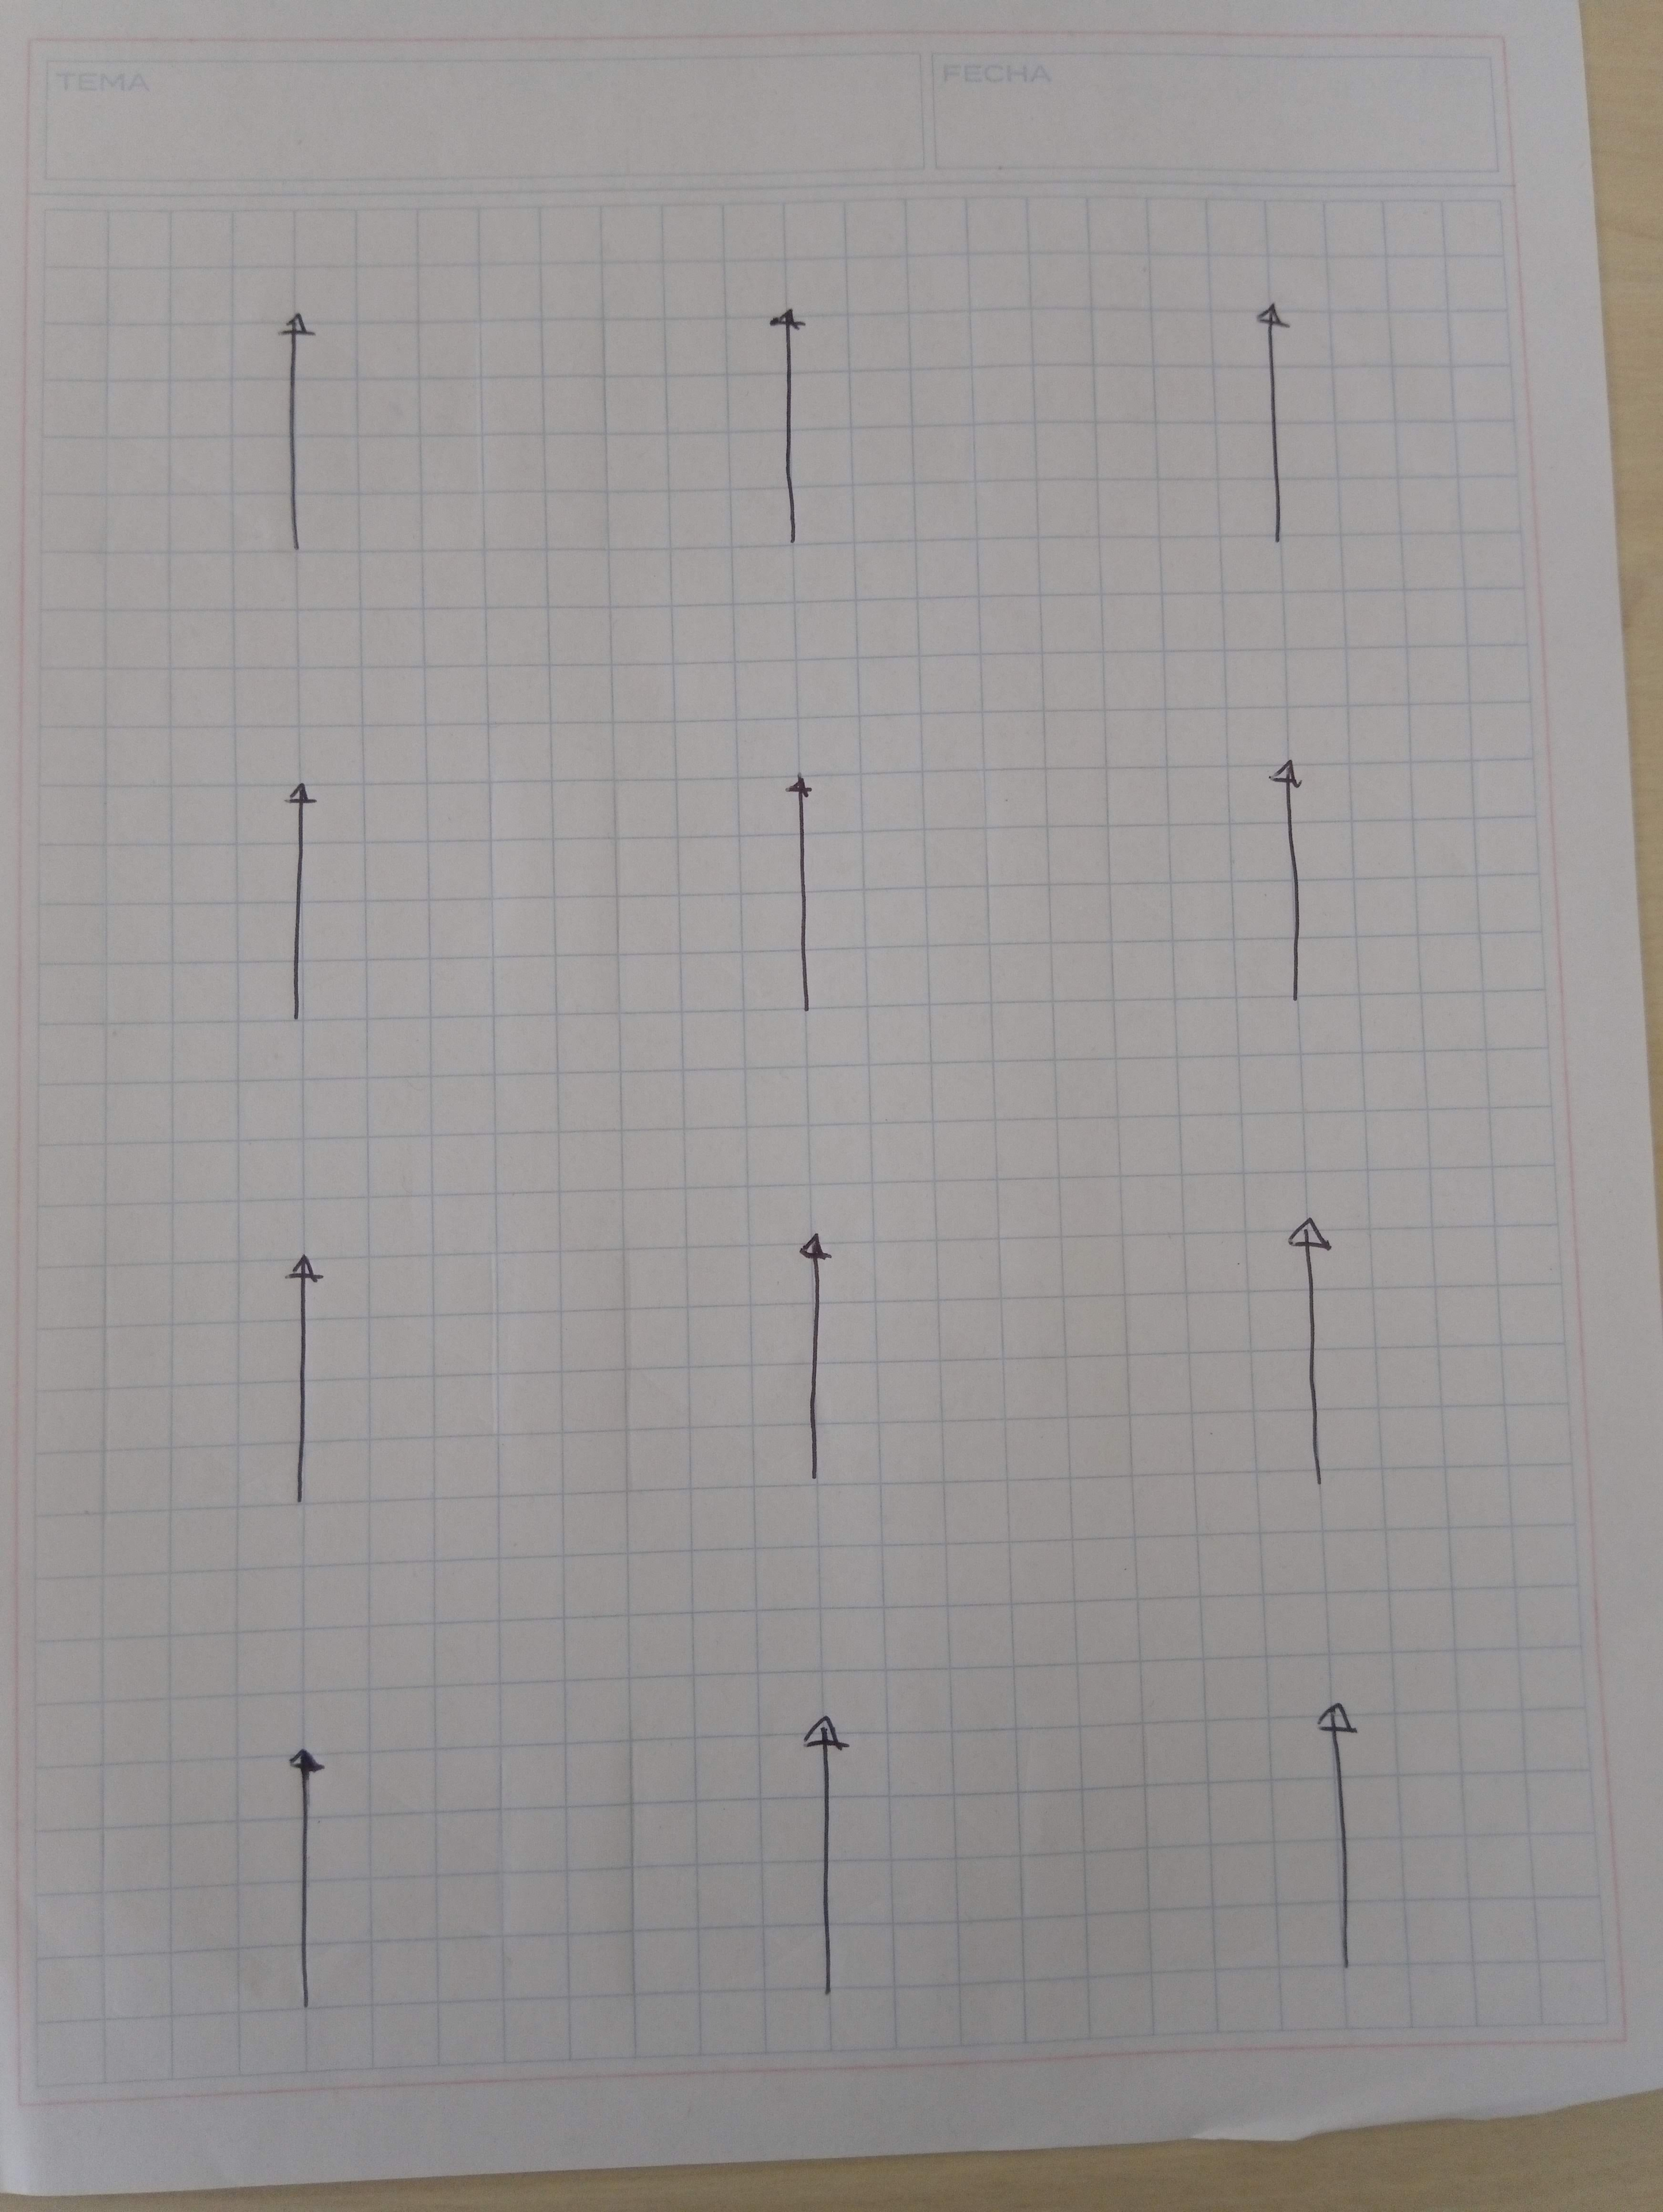arrow_line_up: (253, 1732, 348, 2062), (770, 1713, 866, 2030), (1301, 1674, 1394, 1971), (767, 1220, 856, 1510), (259, 768, 342, 1049), (1282, 1194, 1356, 1507), (273, 1224, 342, 1526), (765, 763, 851, 1004), (735, 276, 816, 527), (1247, 751, 1321, 1007), (1244, 299, 1308, 581), (262, 288, 313, 550)
